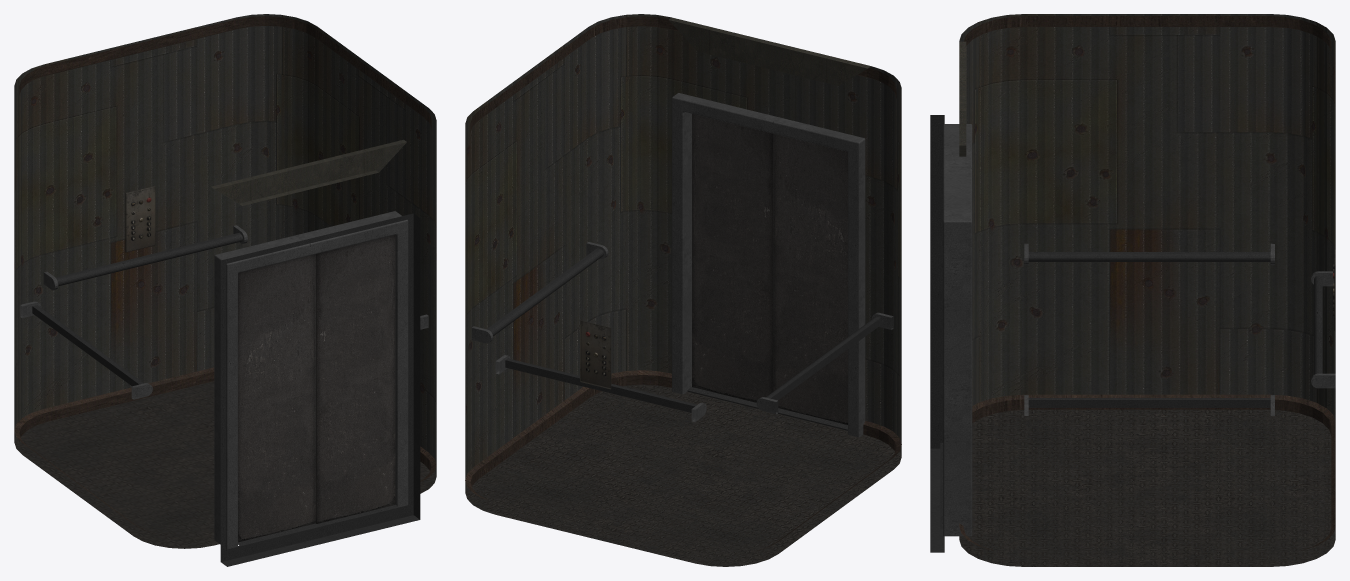
File: elevator_1.obj
3 renders of one model, left to right at view 1: azimuth 30°, elevation 25°; view 2: azimuth 150°, elevation 25°; view 3: azimuth 270°, elevation 25°, orthographic. The views are drawn at different scales.
Visible parts, largest first — view 1: elevator_1, elevator_door_2_a, elevator_door_2_b, elevator_buttons_1; view 2: elevator_1, elevator_door_2_a, elevator_door_2_b, elevator_buttons_1; view 3: elevator_1.
Boxes of the visible parts, <box> form: elevator_1: <box>14,14,436,566</box>; elevator_door_2_a: <box>316,234,395,523</box>; elevator_door_2_b: <box>238,254,315,542</box>; elevator_buttons_1: <box>125,185,155,252</box>; elevator_1: <box>465,14,901,566</box>; elevator_door_2_a: <box>692,114,772,402</box>; elevator_door_2_b: <box>773,133,847,424</box>; elevator_buttons_1: <box>580,320,611,389</box>; elevator_1: <box>930,14,1335,566</box>.
Size of the model in its own units: 2.6 by 3.1 by 2.8.
